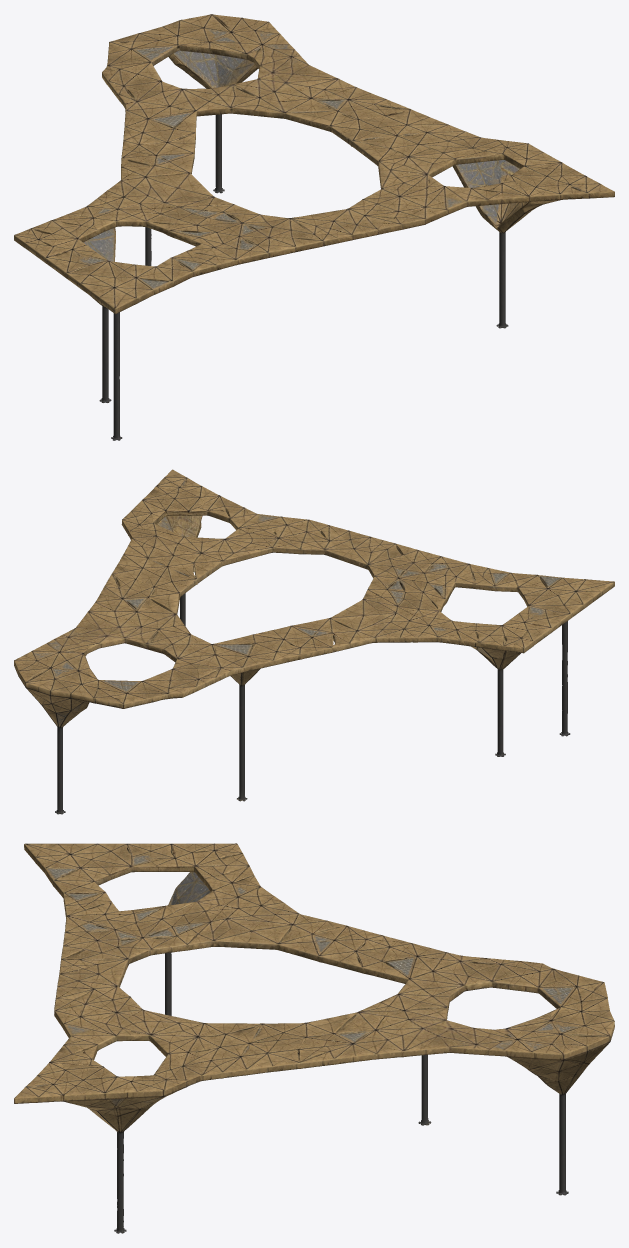
Rendered from canopypav.glb.
The picture shows the model from 3 angles, top to bottom: view 1: azimuth 30°, elevation 25°; view 2: azimuth 150°, elevation 25°; view 3: azimuth 270°, elevation 25°; orthographic projection. The views are drawn at different scales.
Visible parts, largest first — view 1: mesh_node; view 2: mesh_node; view 3: mesh_node.
Part boxes in pixels (bbox=[...]): mesh_node: bbox=[14, 14, 614, 440]; mesh_node: bbox=[14, 469, 614, 814]; mesh_node: bbox=[14, 843, 614, 1233].
Size of the model in its own units: 1.9 by 0.5767 by 1.9.
Materials: 1 (1 with a texture image).
